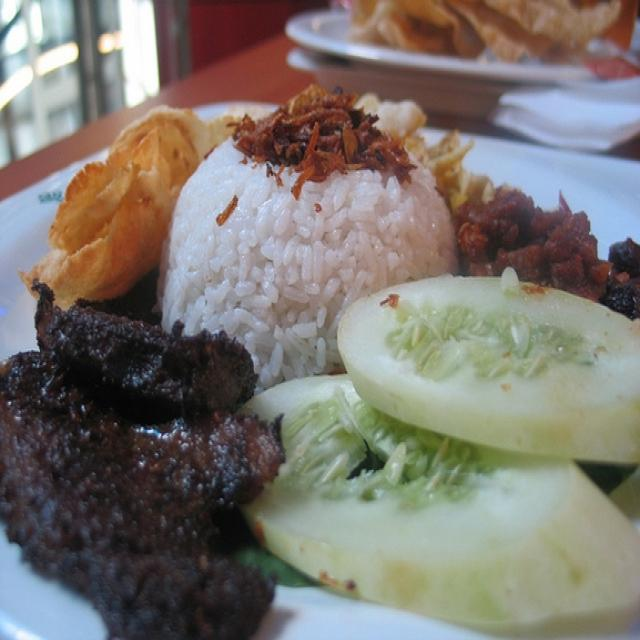米饭主食: (13, 47, 621, 618)
